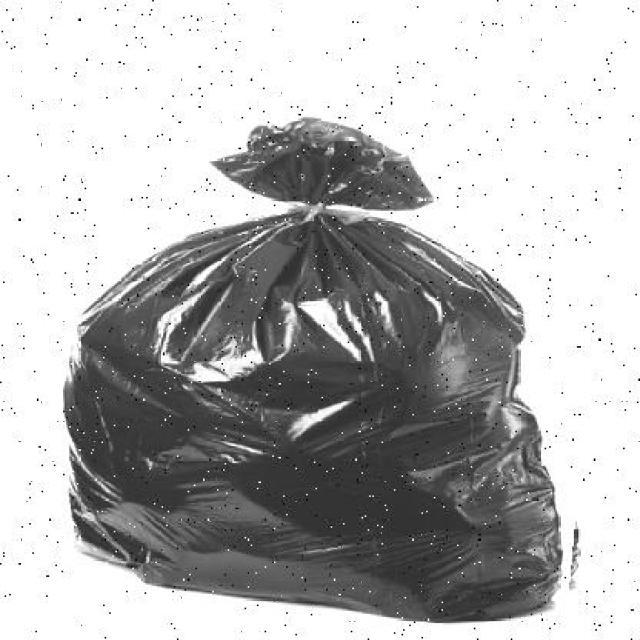waste: (52, 93, 598, 624)
